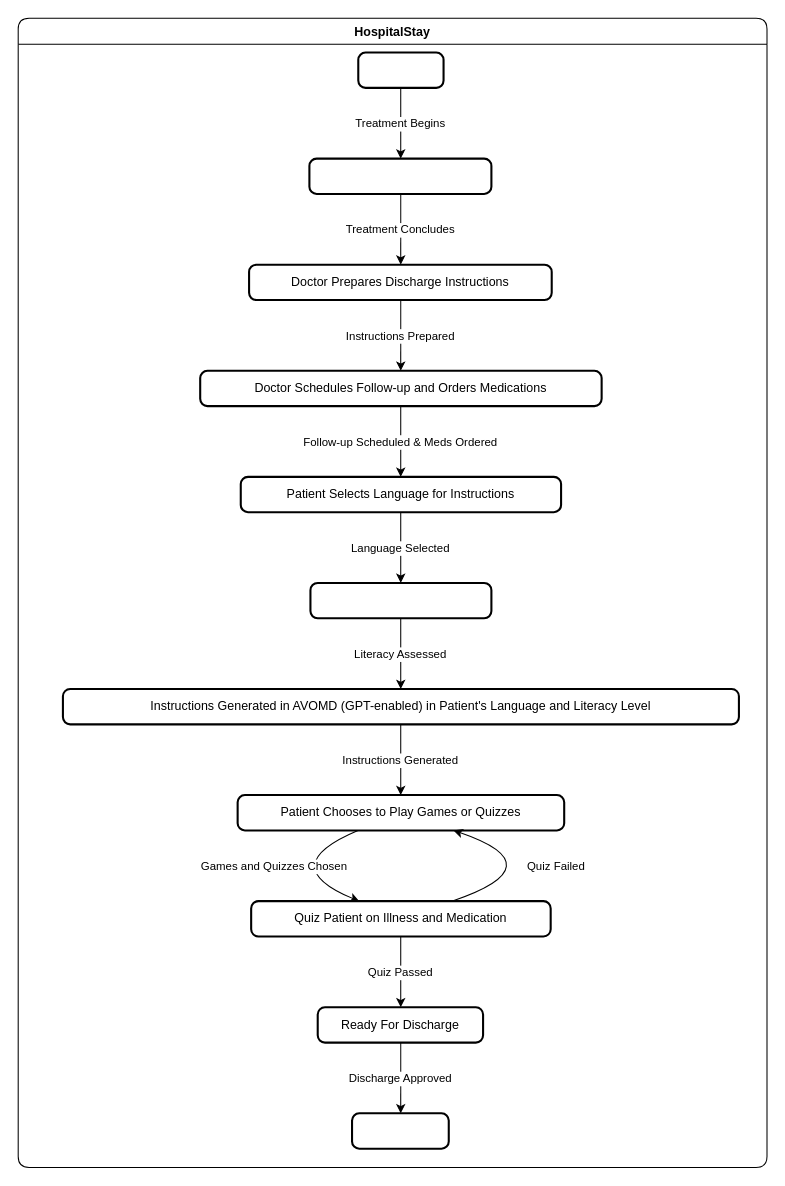
This 785x1186 diagram has some shape labels left out. The shapes that lost their labels are listed below. From the top down, each one's centre as x and y in pixels, then its label:
point 400,69: Admitted
point 400,175: Undergoing Treatment
point 400,600: Assess Health Literacy
point 399,1130: Discharged
